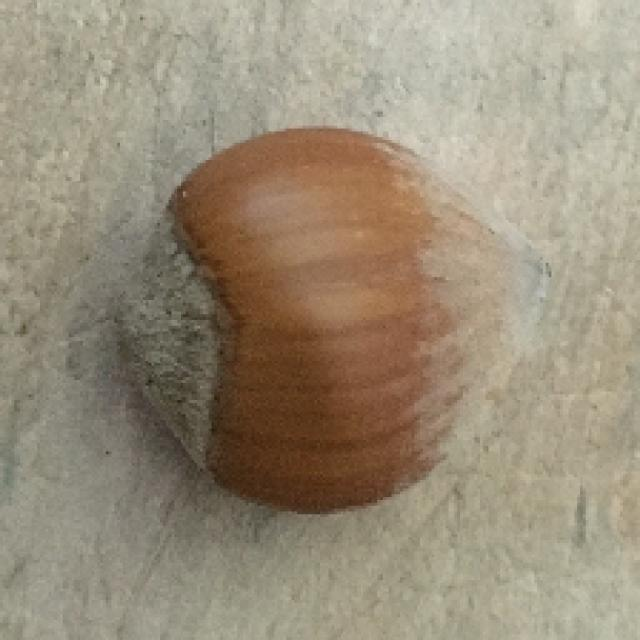QualityHazelnut: (112, 125, 558, 515)
